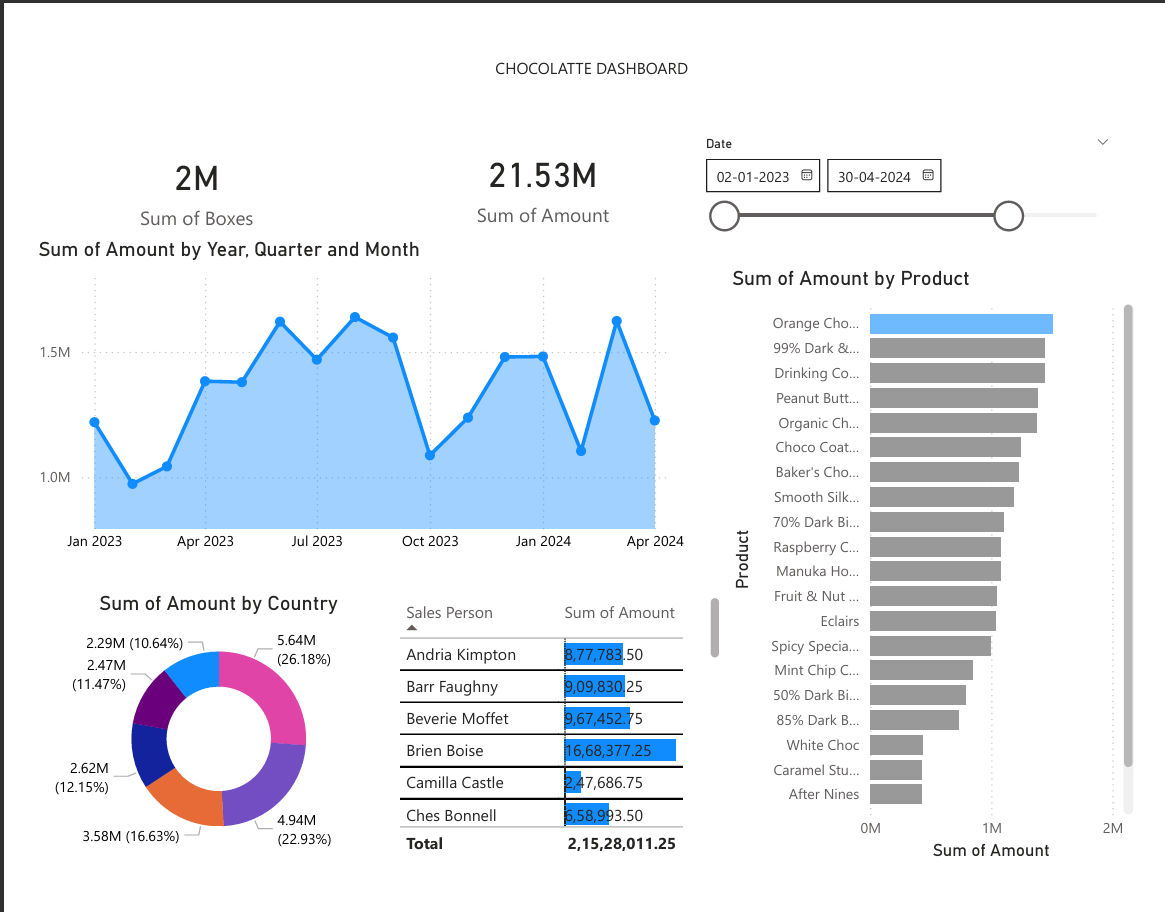

The page's visual inventory and layout, read from the dashboard file:
{"tool":"powerbi","page":{"name":"Page 1","canvas":[1280,720],"ordinal":0},"visuals":[{"type":"lineChart","fields":{"Category":["data.Date.Variation.Date Hierarchy.Year","data.Date.Variation.Date Hierarchy.Quarter","data.Date.Variation.Date Hierarchy.Month","data.Date.Variation.Date Hierarchy.Day"],"Y":["data.Amount"]},"box":[0,173.3,553.3,273.3],"z":0},{"type":"donutChart","fields":{"Category":["data.Country"],"Y":["data.Amount"]},"box":[10,470,293.3,230],"z":1000},{"type":"tableEx","fields":{"Values":["data.Sales Person","data.Amount"]},"box":[303.3,470,280,230],"z":2000},{"type":"clusteredBarChart","fields":{"Category":["data.Product"],"Y":["data.Amount"]},"box":[583.3,196.7,346.7,503.3],"z":3000},{"type":"card","fields":{"Values":["data.Boxes"]},"box":[0,90,276.2,83.8],"z":3001},{"type":"card","fields":{"Values":["data.Amount"]},"box":[303.8,83.8,250,90],"z":3002},{"type":"slicer","fields":{"Values":["data.Date"]},"box":[553.3,83.3,363.3,90],"z":3003},{"type":"textbox","box":[10,0,920,67.5],"z":3004}]}

Visuals, with their boxes on the page's 1280x720 design canvas (x1, y1, x2, y2). These are canvas units, not pixel positions in the 1165x912 screenshot, which may show the page scaled, cropped or inside an application window:
lineChart - data.Date.Variation.Date Hierarchy.Year x data.Date.Variation.Date Hierarchy.Quarter: {"x1": 0, "y1": 173, "x2": 553, "y2": 447}
donutChart - data.Country x data.Amount: {"x1": 10, "y1": 470, "x2": 303, "y2": 700}
tableEx - data.Sales Person x data.Amount: {"x1": 303, "y1": 470, "x2": 583, "y2": 700}
clusteredBarChart - data.Product x data.Amount: {"x1": 583, "y1": 197, "x2": 930, "y2": 700}
card - data.Boxes: {"x1": 0, "y1": 90, "x2": 276, "y2": 174}
card - data.Amount: {"x1": 304, "y1": 84, "x2": 554, "y2": 174}
slicer - data.Date: {"x1": 553, "y1": 83, "x2": 917, "y2": 173}
textbox: {"x1": 10, "y1": 0, "x2": 930, "y2": 68}
